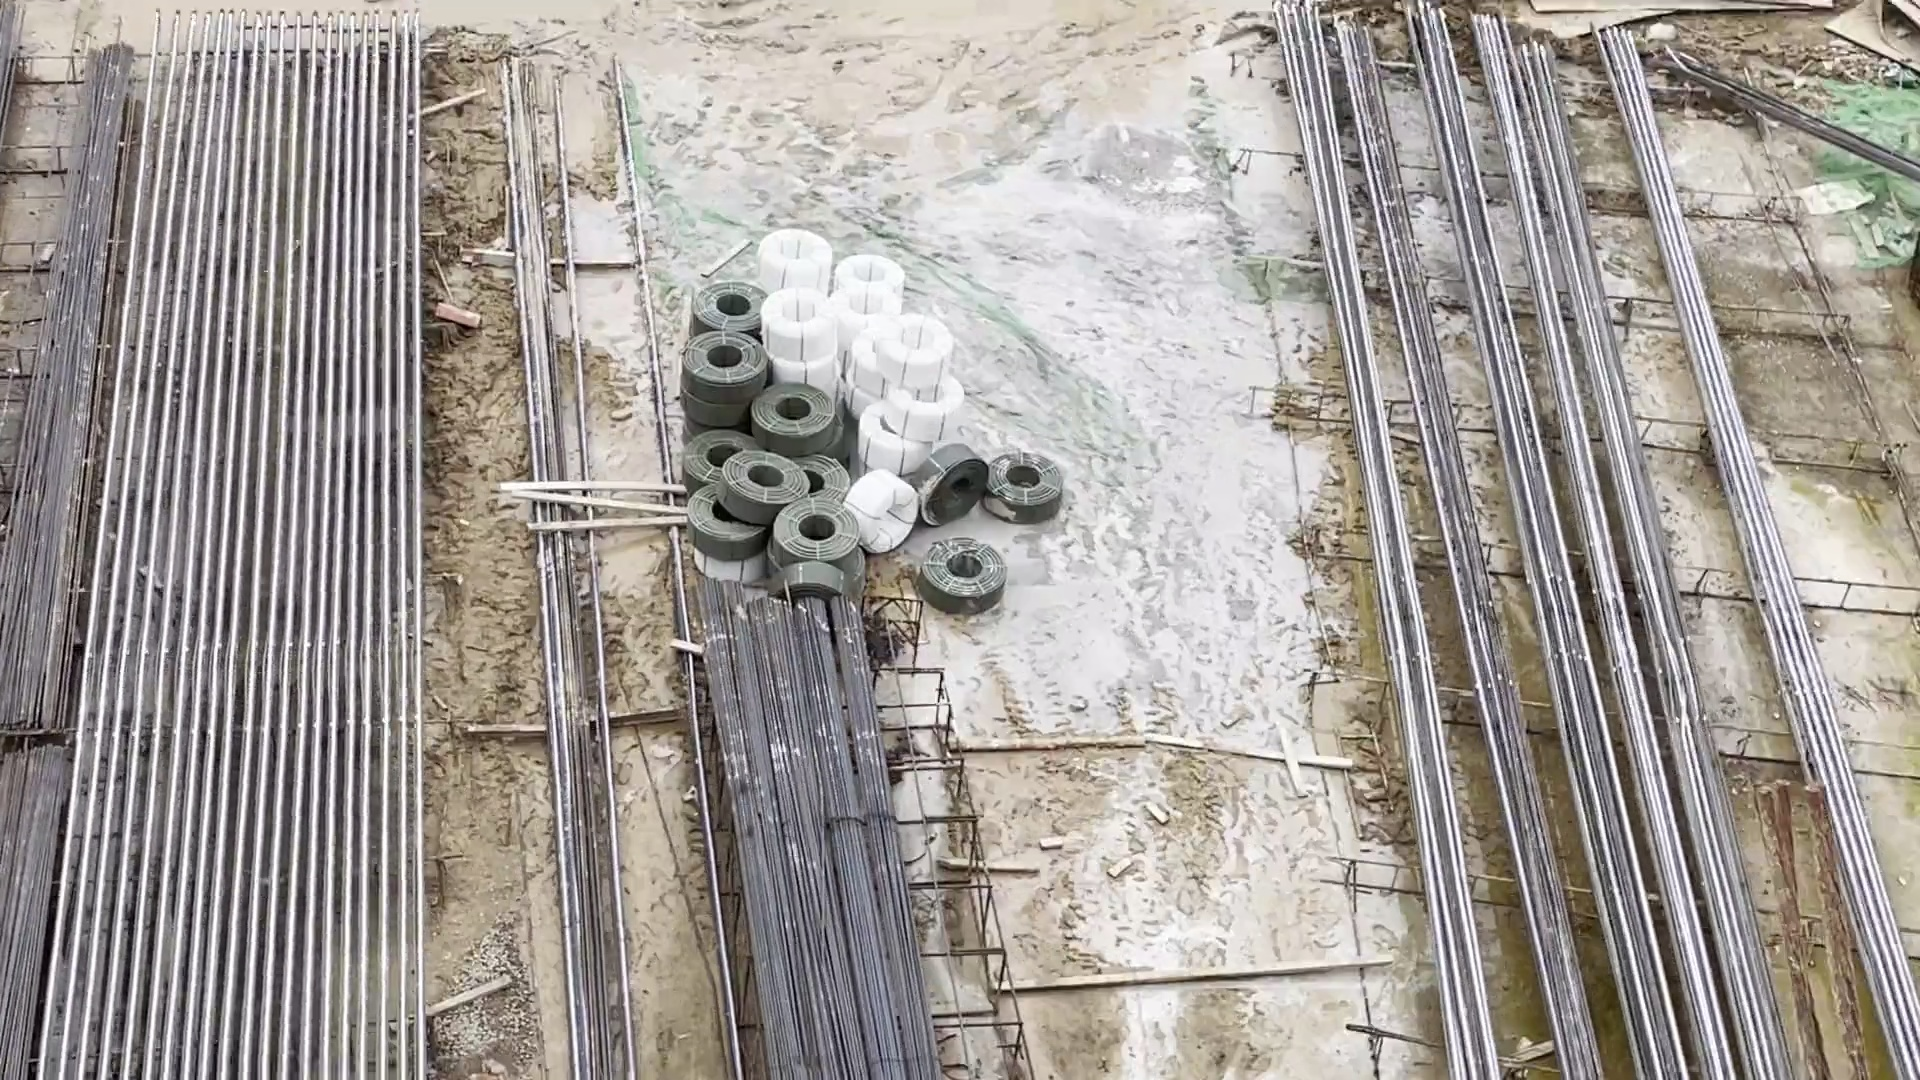rebar: (1302, 1, 1775, 1080), (1, 40, 152, 1080), (686, 585, 920, 1080)
